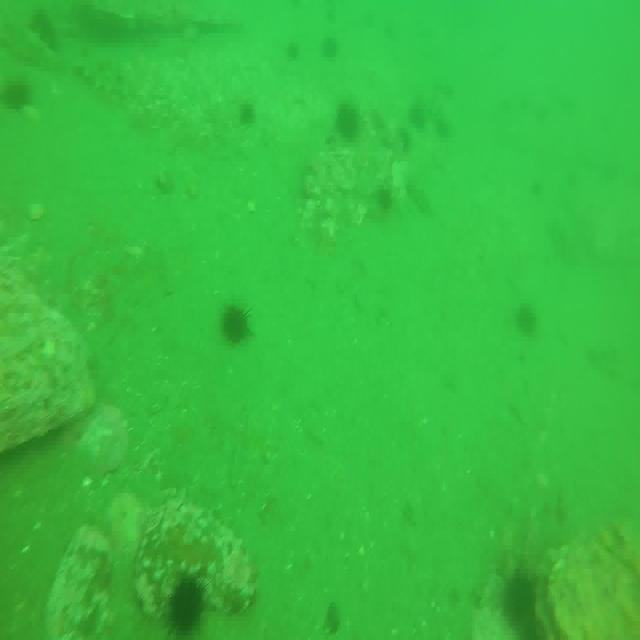echinus: (168, 575, 206, 640), (499, 568, 537, 625), (222, 297, 253, 348), (0, 73, 32, 116), (334, 102, 365, 143), (409, 96, 428, 136), (520, 301, 543, 332), (319, 33, 342, 63), (376, 182, 394, 217), (240, 99, 256, 128), (286, 34, 300, 66)
holothurian: (404, 174, 437, 222)
